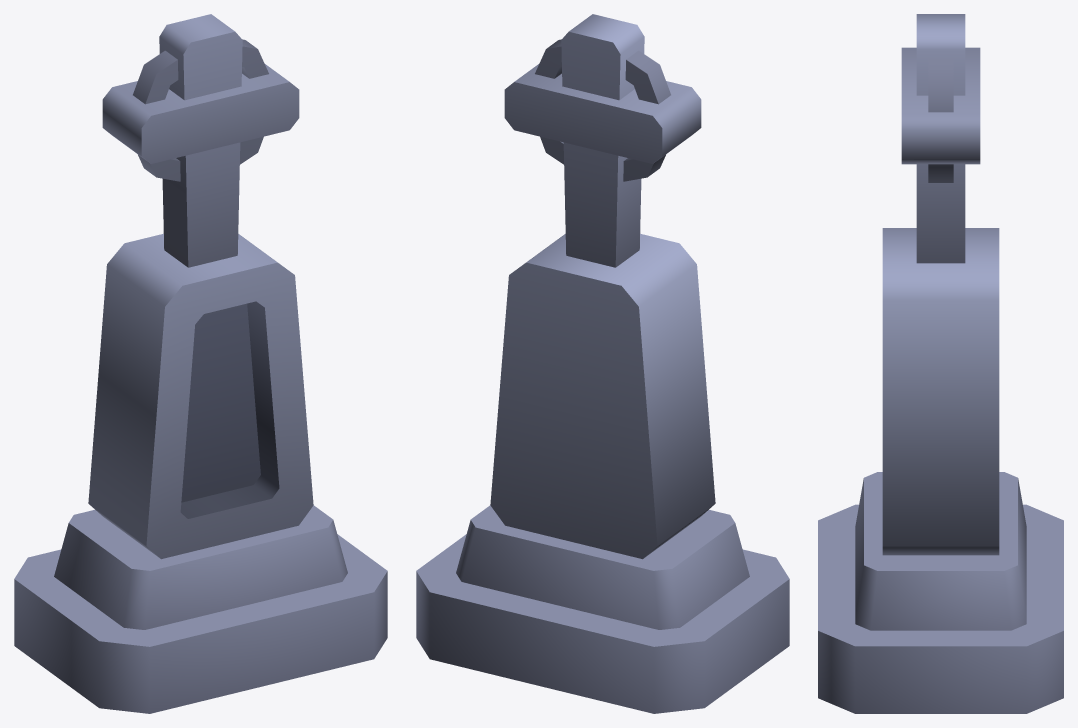
Rendered from K_gravestone-cross.glb.
3 views of the same model, side by side, from view 1: azimuth 30°, elevation 25°; view 2: azimuth 150°, elevation 25°; view 3: azimuth 270°, elevation 25° (orthographic).
Parts seen in each view (by area): view 1: gravestone-cross; view 2: gravestone-cross; view 3: gravestone-cross.
Boxes of the visible parts, x1=… form: gravestone-cross: x1=14, y1=14, x2=387, y2=713; gravestone-cross: x1=416, y1=14, x2=789, y2=713; gravestone-cross: x1=818, y1=14, x2=1063, y2=713.
Bounding box in the file's own units: 0.4499 × 0.915 × 0.33.
